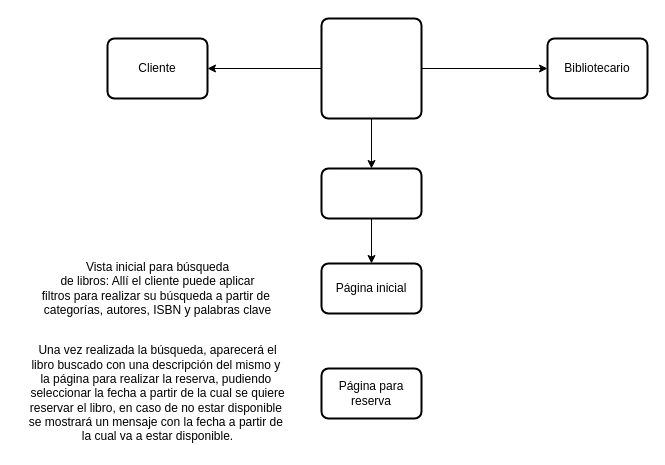
This 665x465 diagram has some shape labels left out. Each missing label, with the centre of its shape:
Inicio de sesión: (371,193)
Registro en el sistema (cliente y bibliotecario): (371,68)
